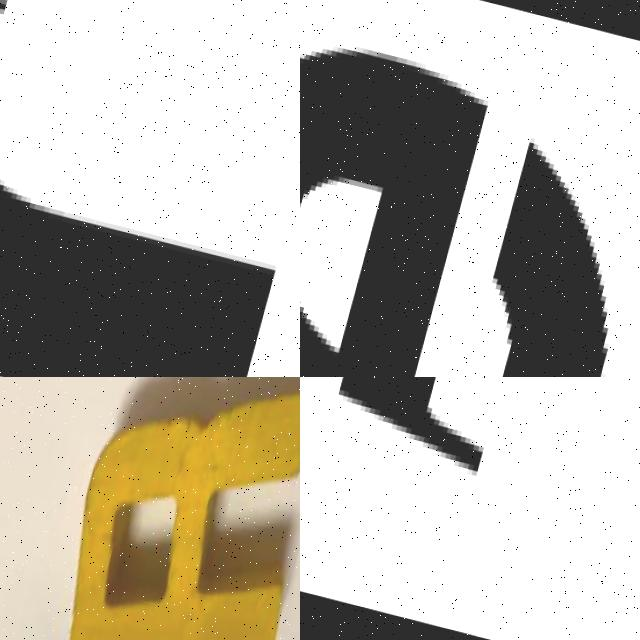7: (315, 377, 640, 559)
E: (300, 46, 490, 377)
R: (0, 0, 300, 377), (40, 377, 300, 640)
